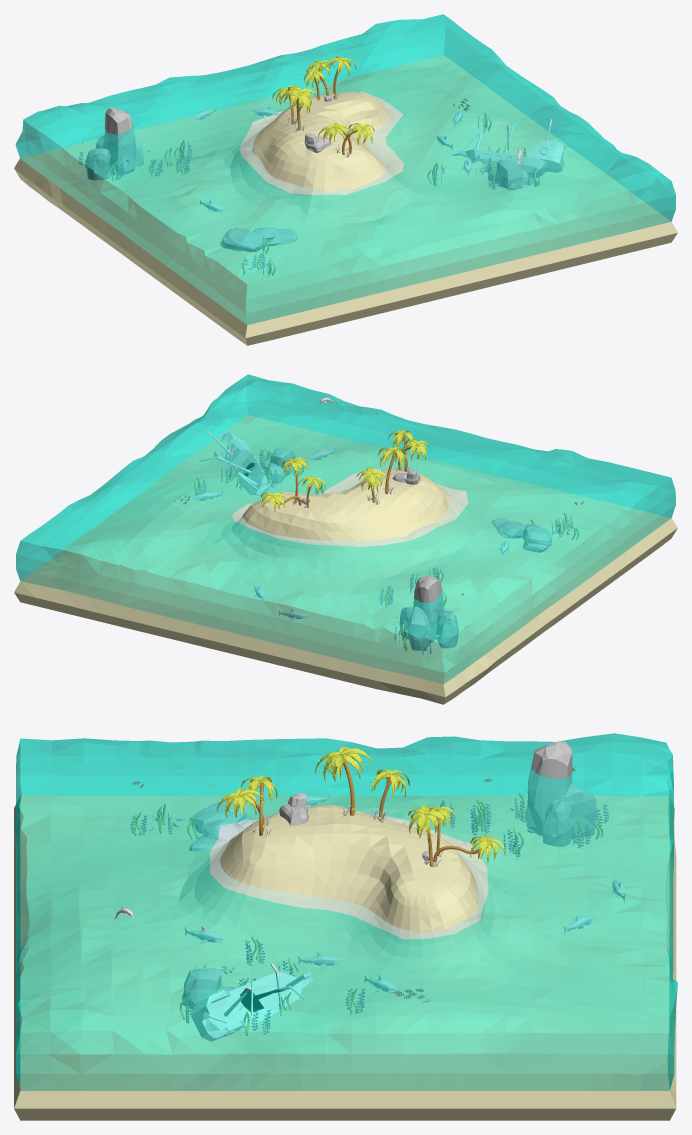
File: island.fbx
3 renders of one model, top to bottom at view 1: azimuth 30°, elevation 25°; view 2: azimuth 150°, elevation 25°; view 3: azimuth 270°, elevation 25°, orthographic. The views are drawn at different scales.
Parts seen in each view (by area): view 1: BE1-material, YW1-material, WE2-material.011, WE1-material.004, BN-material.005, WE1-material.008, WE1-material, GN1-material.007, GN1-material.013, BN2-material, WE1-material.007; view 2: BE1-material, YW1-material, WE1-material.004, WE2-material.011, BN-material.005, GN1-material.013, GN1-material.007, WE1-material.008, WE1-material, BN2-material, WE1-material.007; view 3: BE1-material, YW1-material, WE1-material.004, WE2-material.011, BN-material.005, BN2-material, GN1-material.007, GN1-material.013, WE1-material.008, WE1-material, WE1-material.007, WE1-material.003 (+1 smaller).
Boxes of the visible parts, box(x1,y1,x2,y2) form: BE1-material: box(15, 14, 675, 325); YW1-material: box(14, 55, 677, 345); WE2-material.011: box(239, 91, 403, 195); WE1-material.004: box(85, 107, 143, 180); BN-material.005: box(465, 140, 565, 177); WE1-material.008: box(487, 160, 529, 189); WE1-material: box(220, 227, 263, 252); GN1-material.007: box(272, 85, 316, 113); GN1-material.013: box(303, 56, 356, 87); BN2-material: box(451, 119, 551, 178); WE1-material.007: box(253, 227, 297, 246); BE1-material: box(16, 374, 675, 684); YW1-material: box(14, 415, 677, 704); WE1-material.004: box(399, 576, 458, 650); WE2-material.011: box(232, 469, 468, 546); BN-material.005: box(213, 432, 267, 494); GN1-material.013: box(260, 457, 326, 511); GN1-material.007: box(356, 447, 407, 491); WE1-material.008: box(259, 448, 295, 483); WE1-material: box(522, 524, 552, 552); BN2-material: box(199, 430, 264, 497); WE1-material.007: box(491, 518, 525, 538); BE1-material: box(15, 733, 677, 1090); YW1-material: box(14, 795, 676, 1120); WE1-material.004: box(525, 741, 596, 846); WE2-material.011: box(209, 814, 488, 939); BN-material.005: box(191, 971, 302, 1041); BN2-material: box(202, 964, 312, 1037); GN1-material.007: box(315, 746, 409, 796); GN1-material.013: box(408, 804, 505, 862); WE1-material.008: box(182, 968, 236, 1009); WE1-material: box(189, 800, 252, 833); WE1-material.007: box(189, 820, 239, 851); WE1-material.003: box(279, 793, 308, 825).
Size of the model in its own units: 784 by 229 by 726.
